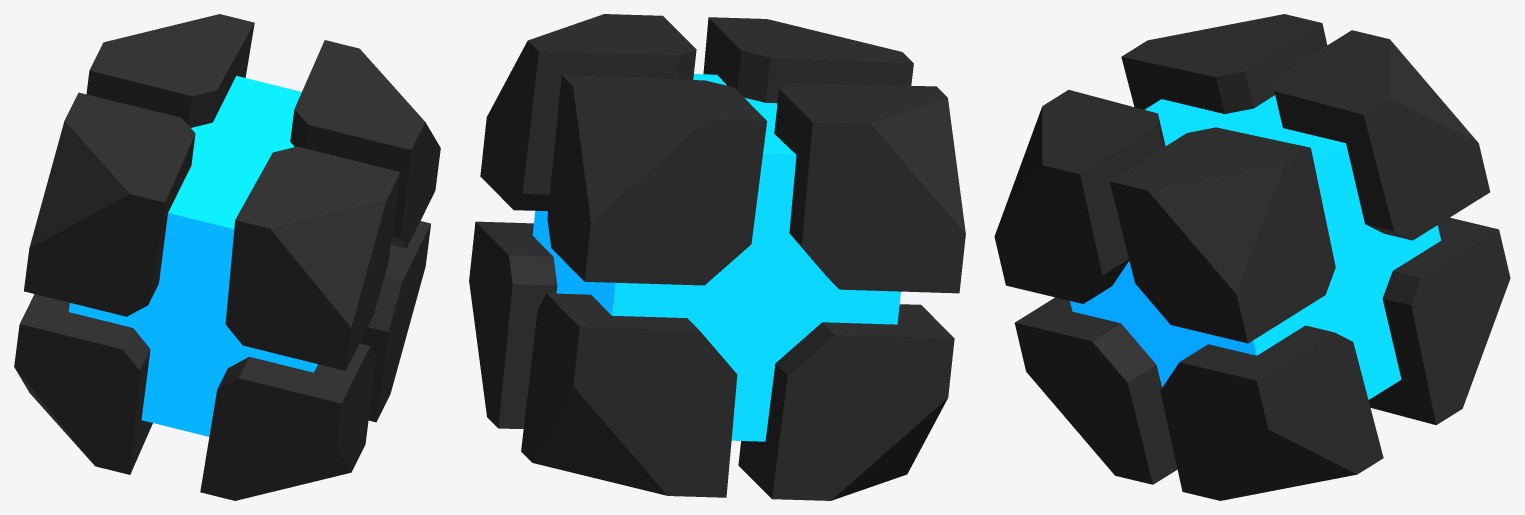
Rendered from climatology-pack.glb.
The picture shows the model from 3 angles, left to right: view 1: azimuth 30°, elevation 25°; view 2: azimuth 150°, elevation 25°; view 3: azimuth 270°, elevation 25°; orthographic projection. The views are drawn at different scales.
Visible parts, largest first — view 1: Cube.021; view 2: Cube.021; view 3: Cube.021.
Boxes of the visible parts, x1,y1,x2,y2 form: Cube.021: [14, 14, 440, 500]; Cube.021: [469, 14, 965, 500]; Cube.021: [994, 14, 1510, 500].
Bounding box in the file's own units: 4.8 × 4.04 × 5.
1 material, 1 textured.
